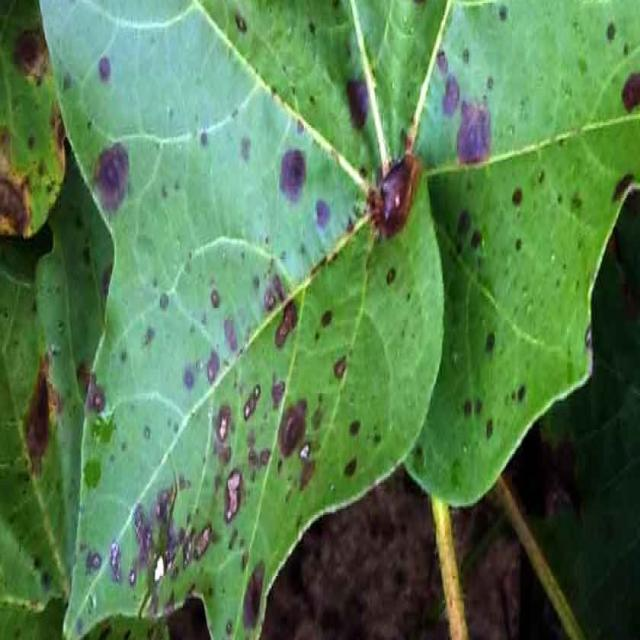Cotton Ball Rot: (90, 137, 132, 221), (275, 142, 309, 210)
Target Spot: (26, 3, 635, 635)
